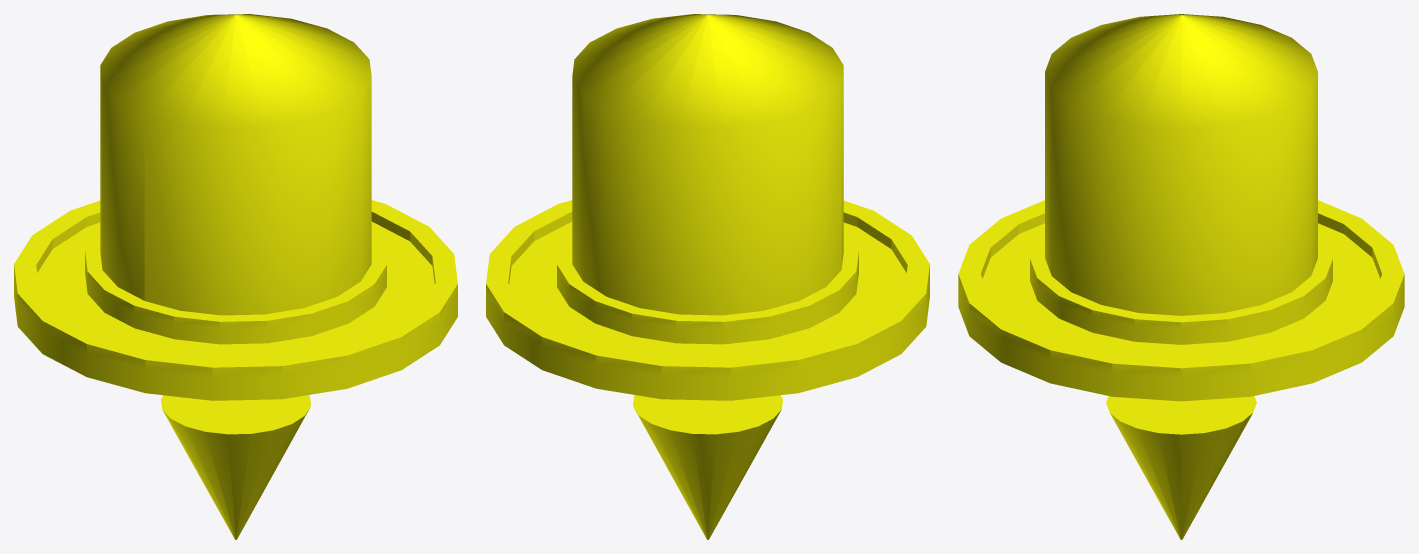
The model's file is joubnobj.gltf.
The picture shows the model from 3 angles, left to right: view 1: azimuth 30°, elevation 25°; view 2: azimuth 150°, elevation 25°; view 3: azimuth 270°, elevation 25°; orthographic projection.
Visible parts, largest first — view 1: nurbsCone1, pCylinder3; view 2: nurbsCone1, pCylinder3; view 3: nurbsCone1, pCylinder3.
Part boxes in pixels (x1=…): nurbsCone1: x1=14, y1=14, x2=457, y2=400; pCylinder3: x1=161, y1=395, x2=310, y2=539; nurbsCone1: x1=486, y1=14, x2=929, y2=400; pCylinder3: x1=633, y1=395, x2=782, y2=539; nurbsCone1: x1=958, y1=14, x2=1404, y2=401; pCylinder3: x1=1106, y1=396, x2=1256, y2=539.
Size of the model in its own units: 2 by 2.59 by 2.
